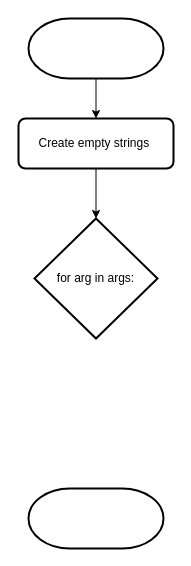
This 191x566 diagram has some shape labels left out. Here are the shapes that lost their labels. From the top down, the centre of each, then its label:
(x=95, y=48): format_strings(*args)
(x=95, y=518): Stop
